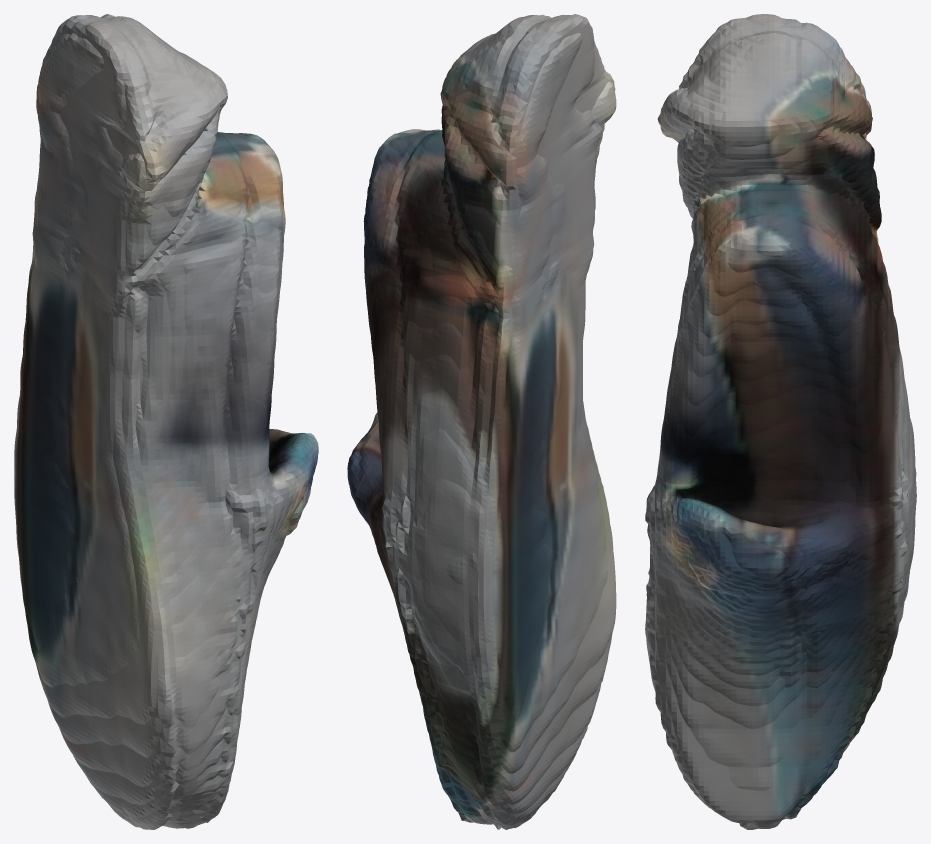
File: shoe_scan.glb
3 views of the same model, side by side, from view 1: azimuth 30°, elevation 25°; view 2: azimuth 150°, elevation 25°; view 3: azimuth 270°, elevation 25° (orthographic). The views are drawn at different scales.
Visible parts, largest first — view 1: geometry_0; view 2: geometry_0; view 3: geometry_0.
Boxes of the visible parts, x1,y1,x2,y2 form: geometry_0: [14, 14, 318, 829]; geometry_0: [347, 14, 616, 829]; geometry_0: [645, 14, 916, 829].
Size of the model in its own units: 0.2921 by 1.08 by 0.3419.
